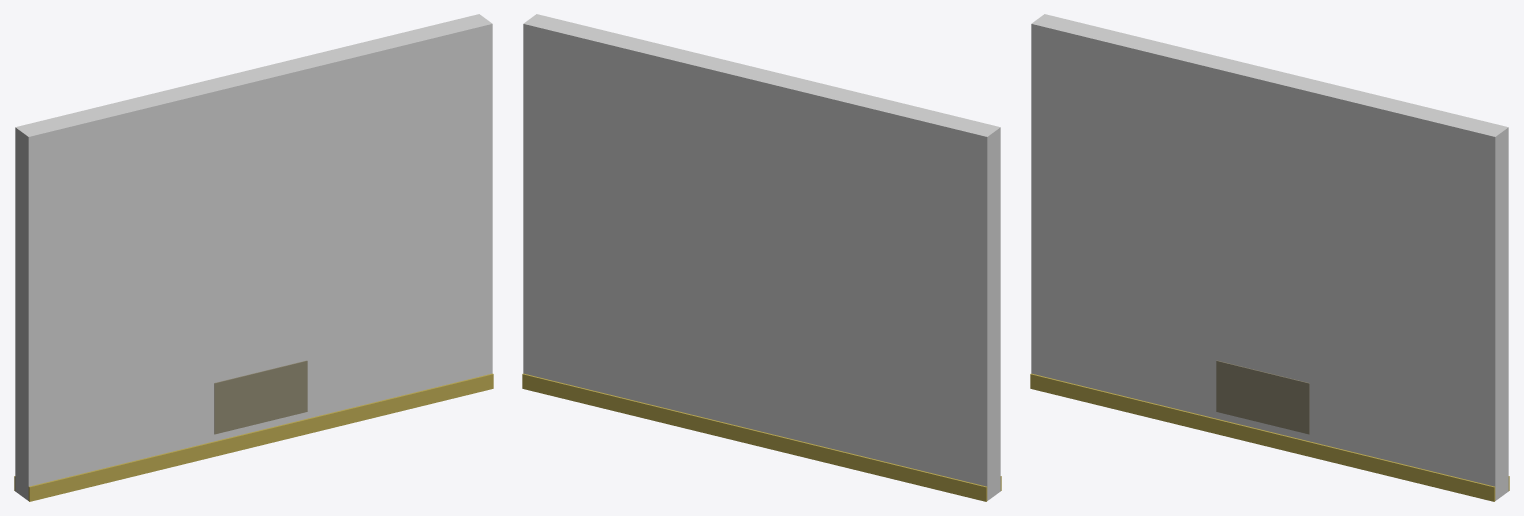
The model's file is MOD_27_WallVent.glb.
3 views of the same model, side by side, from view 1: azimuth 30°, elevation 25°; view 2: azimuth 150°, elevation 25°; view 3: azimuth 330°, elevation 25° (orthographic).
Parts seen in each view (by area): view 1: MOD_27_WallVent; view 2: MOD_27_WallVent; view 3: MOD_27_WallVent.
Part boxes in pixels (x1,y1,x2,y2): MOD_27_WallVent: (14,14,493,501); MOD_27_WallVent: (522,14,1001,501); MOD_27_WallVent: (1030,14,1509,501).
Size of the model in its own units: 4 by 3 by 0.23.
